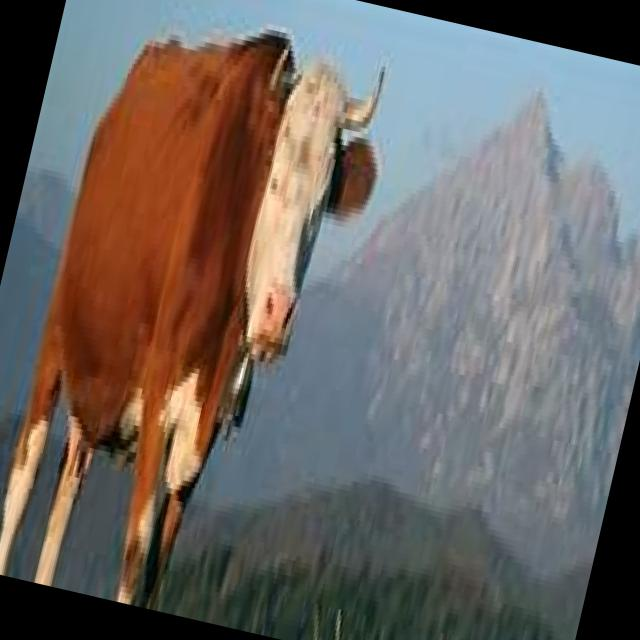cow: (0, 0, 401, 634)
